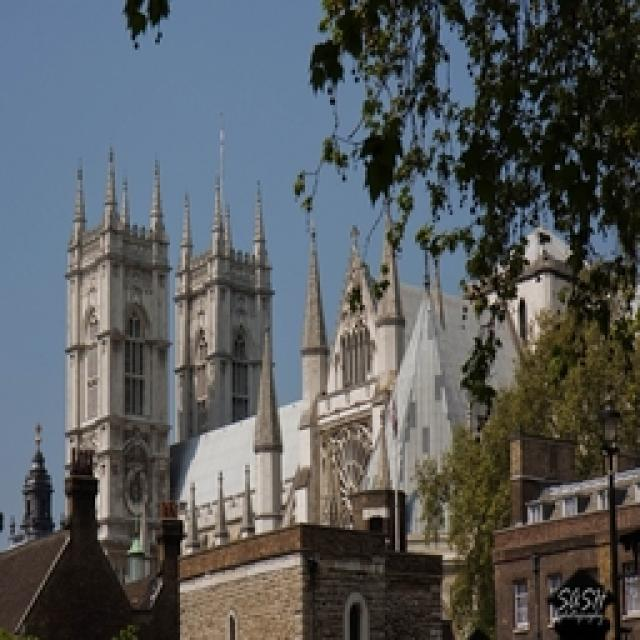Abbey: (51, 140, 342, 553)
